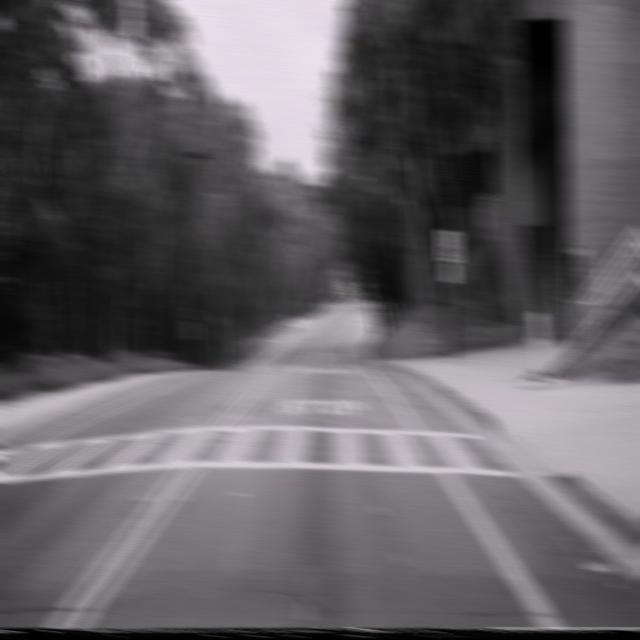speedLimit35: (439, 228, 460, 262)
